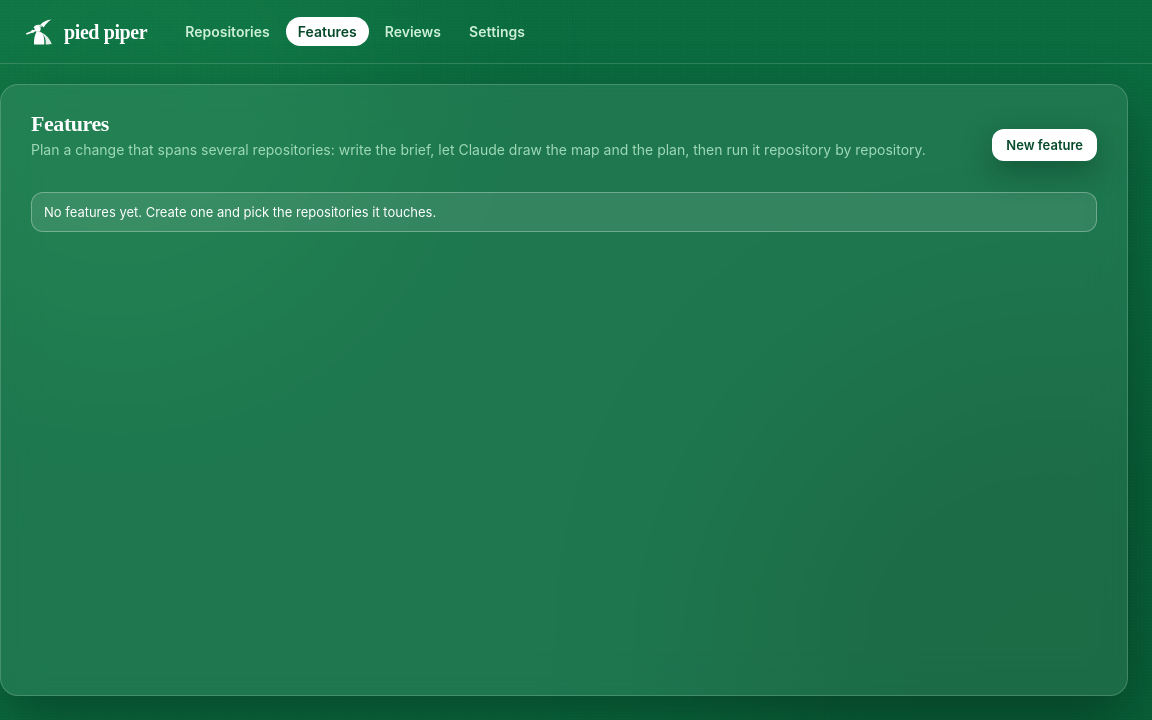
Scenario: FeaturesPage › creates a feature from a name, the repositories it touches and a brief
Expected: the text with test id "features-empty" is shown, [31,192,1097,232]
Click the button with test id "features-new" at (1045, 144), box [992,128,1097,160]
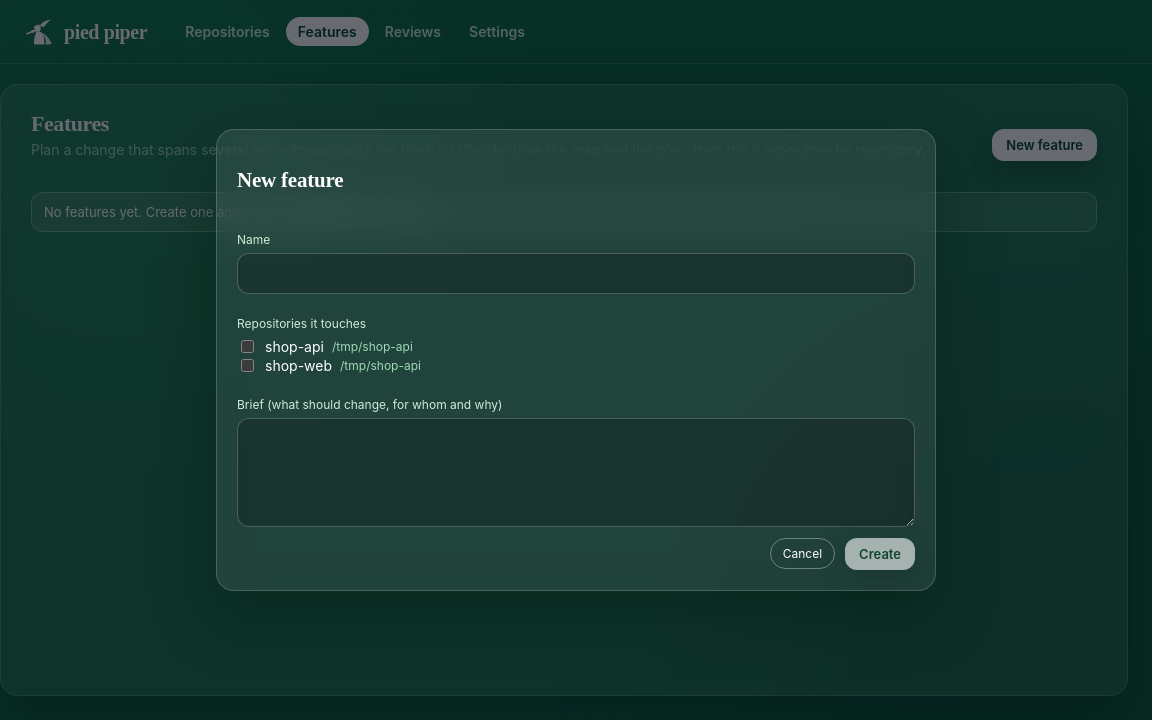
Now the button with test id "feature-create-submit" is disabled, box [845,538,915,570]
Type "Checkout 2FA" into the field with test id "feature-create-title" at (576, 273), box [237,253,915,294]
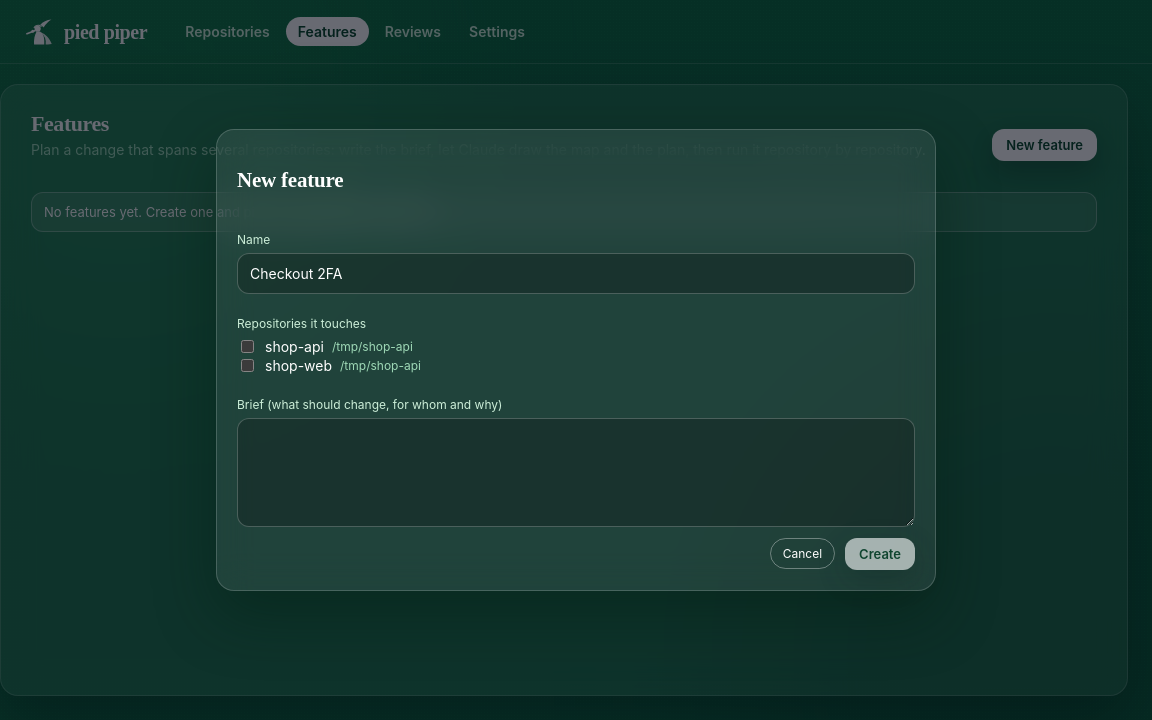
Click the checkbox with test id "feature-create-repo-r1" at (248, 346), box [241,340,254,353]
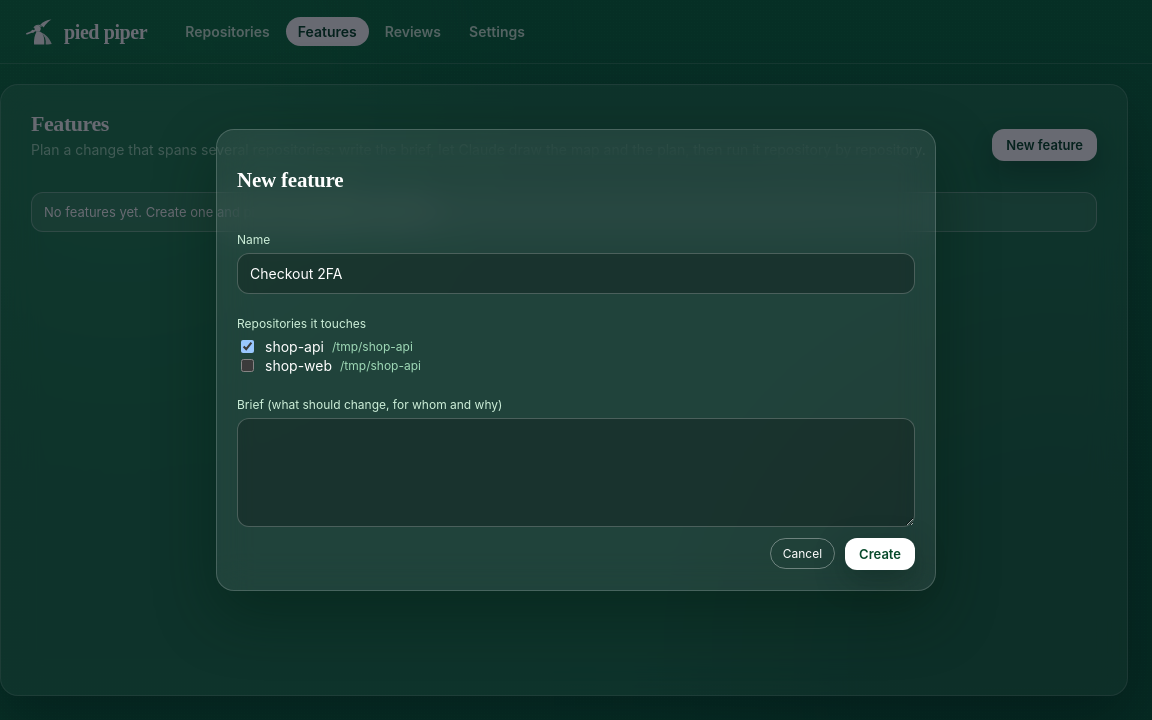
Click the checkbox with test id "feature-create-repo-r2" at (248, 365), box [241,359,254,372]
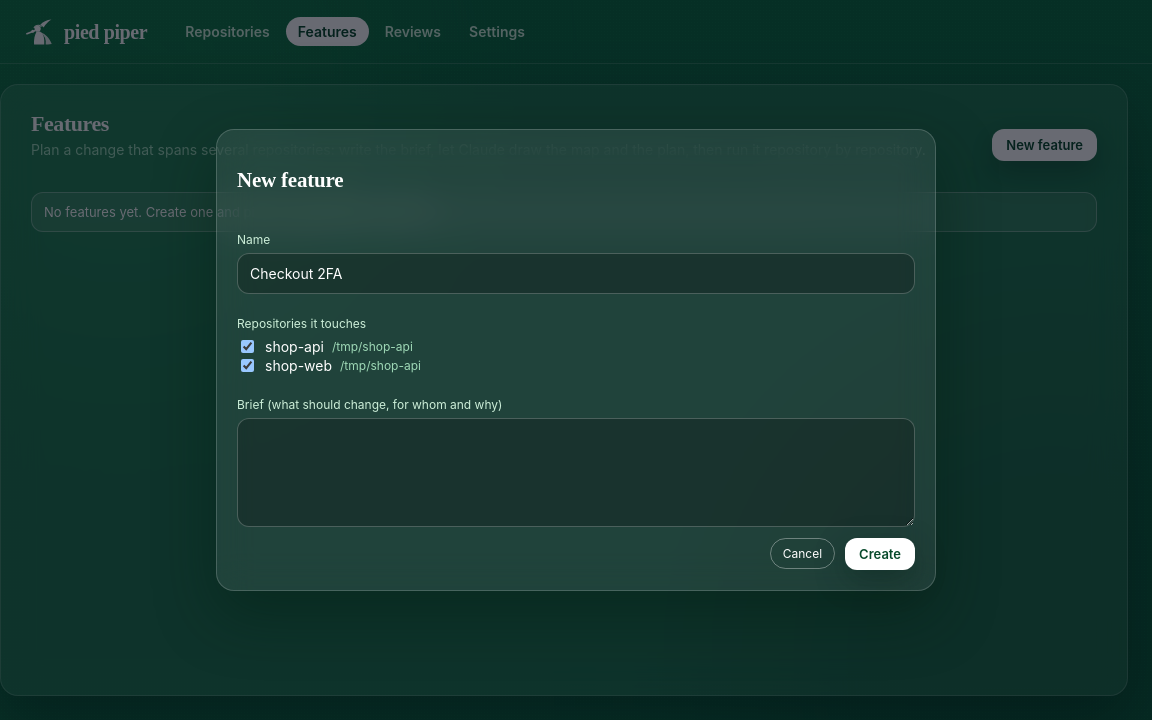
Type "Add 2FA" into the text box with test id "feature-create-brief" at (576, 472), box [237,418,915,527]
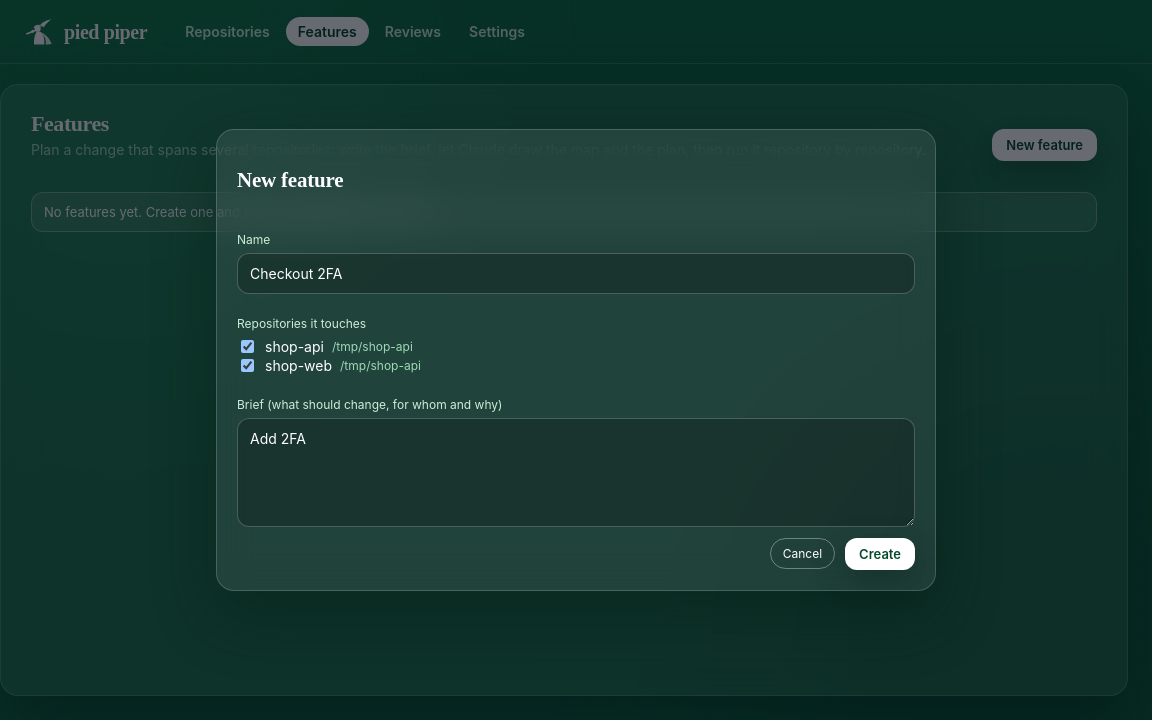
Click the button with test id "feature-create-submit" at (880, 554), box [845,538,915,570]
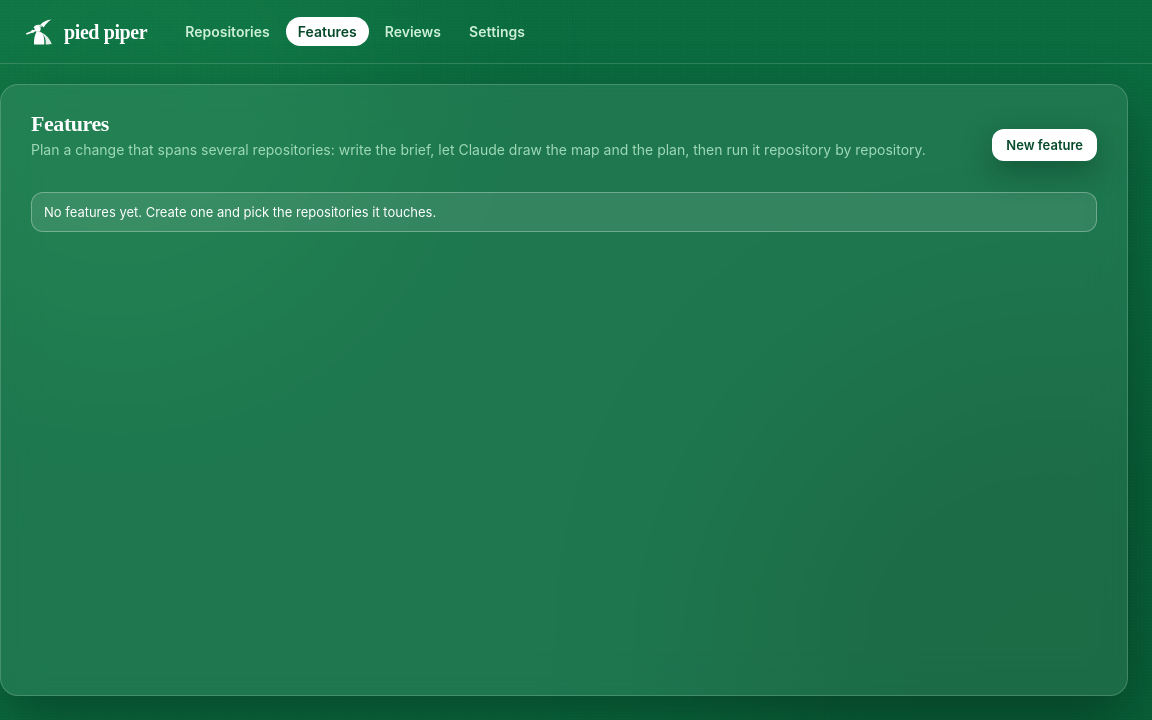
Now the dialog with test id "feature-create" is gone
